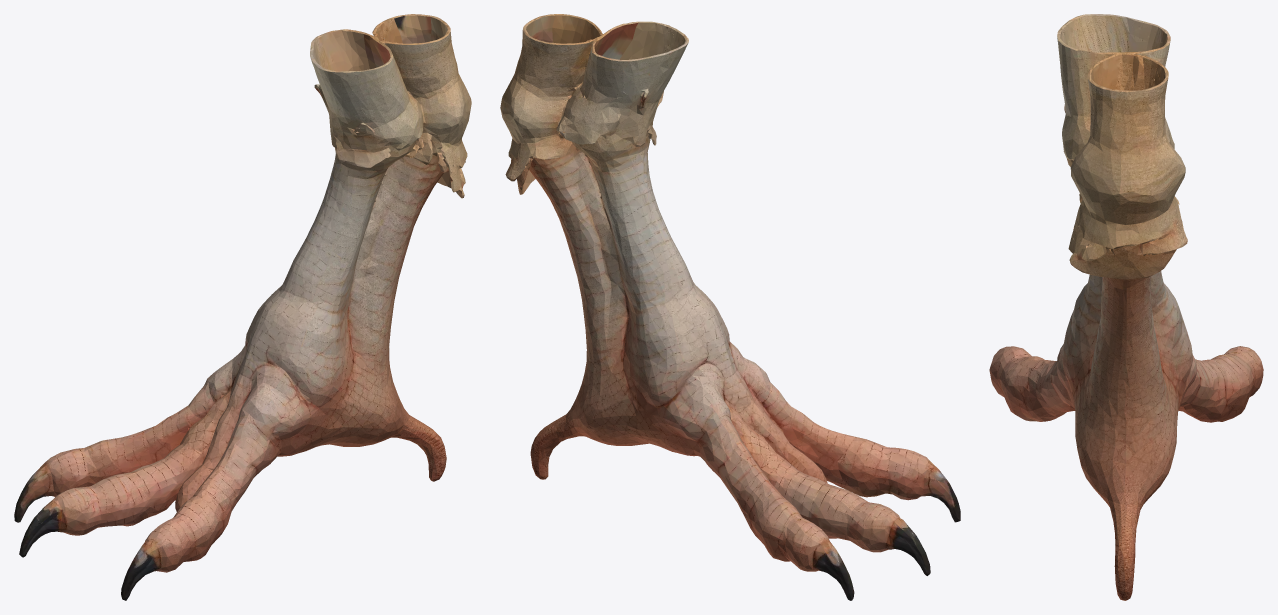
File: foot (51).glb
3 renders of one model, left to right at view 1: azimuth 30°, elevation 25°; view 2: azimuth 150°, elevation 25°; view 3: azimuth 270°, elevation 25°, orthographic. The views are drawn at different scales.
Parts seen in each view (by area): view 1: Hy21_Mesh.obj; view 2: Hy21_Mesh.obj; view 3: Hy21_Mesh.obj.
Boxes of the visible parts, <box> form: Hy21_Mesh.obj: <box>14,14,471,600</box>; Hy21_Mesh.obj: <box>500,14,960,600</box>; Hy21_Mesh.obj: <box>989,14,1263,600</box>.
Size of the model in its own units: 1.95 by 1.95 by 0.9386.
1 material, 1 textured.
